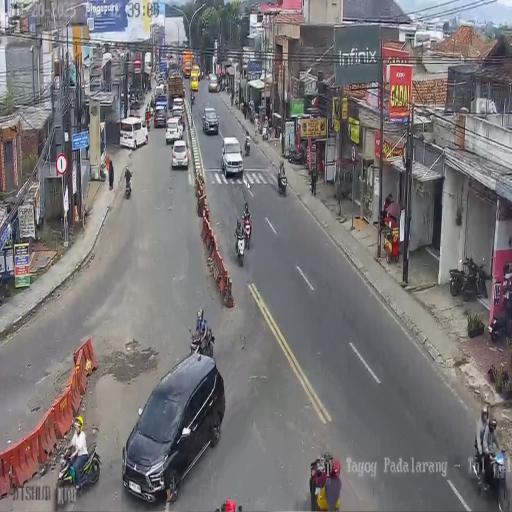3: (167, 72, 184, 104), (181, 50, 194, 78), (190, 64, 201, 91), (159, 59, 168, 81)
car: (121, 349, 225, 502), (119, 116, 148, 150), (220, 136, 243, 177), (171, 138, 189, 170), (202, 107, 219, 135), (165, 118, 182, 145), (154, 108, 167, 129), (171, 100, 184, 119), (208, 74, 219, 93), (154, 82, 166, 99)
truck: (57, 440, 101, 492), (450, 252, 486, 299), (488, 310, 506, 343), (235, 225, 246, 266), (288, 145, 304, 165), (278, 169, 288, 197), (124, 173, 132, 198), (274, 123, 282, 139), (253, 114, 259, 134), (244, 139, 250, 157), (262, 122, 268, 140), (146, 114, 152, 131), (190, 93, 195, 106)
